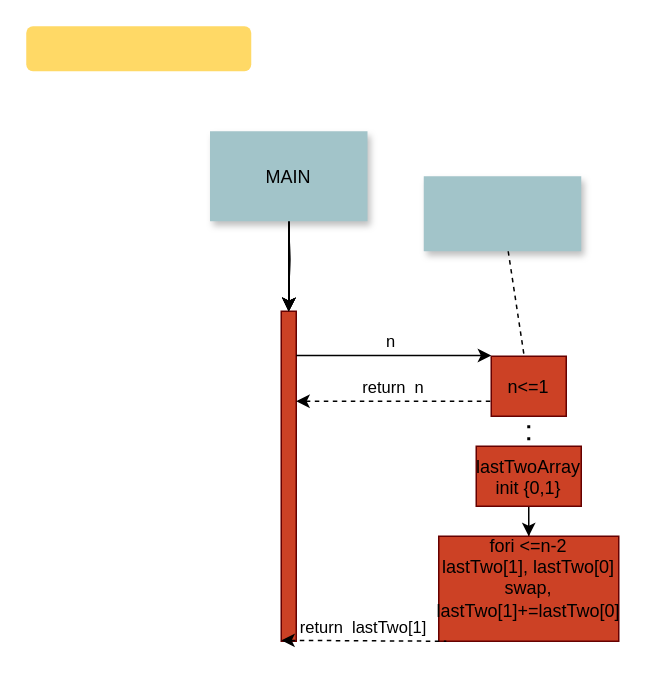
The diagram is 645 pixels wide and 680 high, and some of its shapes have lost their labels. The shapes that lost their labels are listed below. From the top down, each one's centre as x and y in pixels, then its label:
At [138,48]: "IterativeFibApp".
At [503,215]: "IterativeFibonacci".
